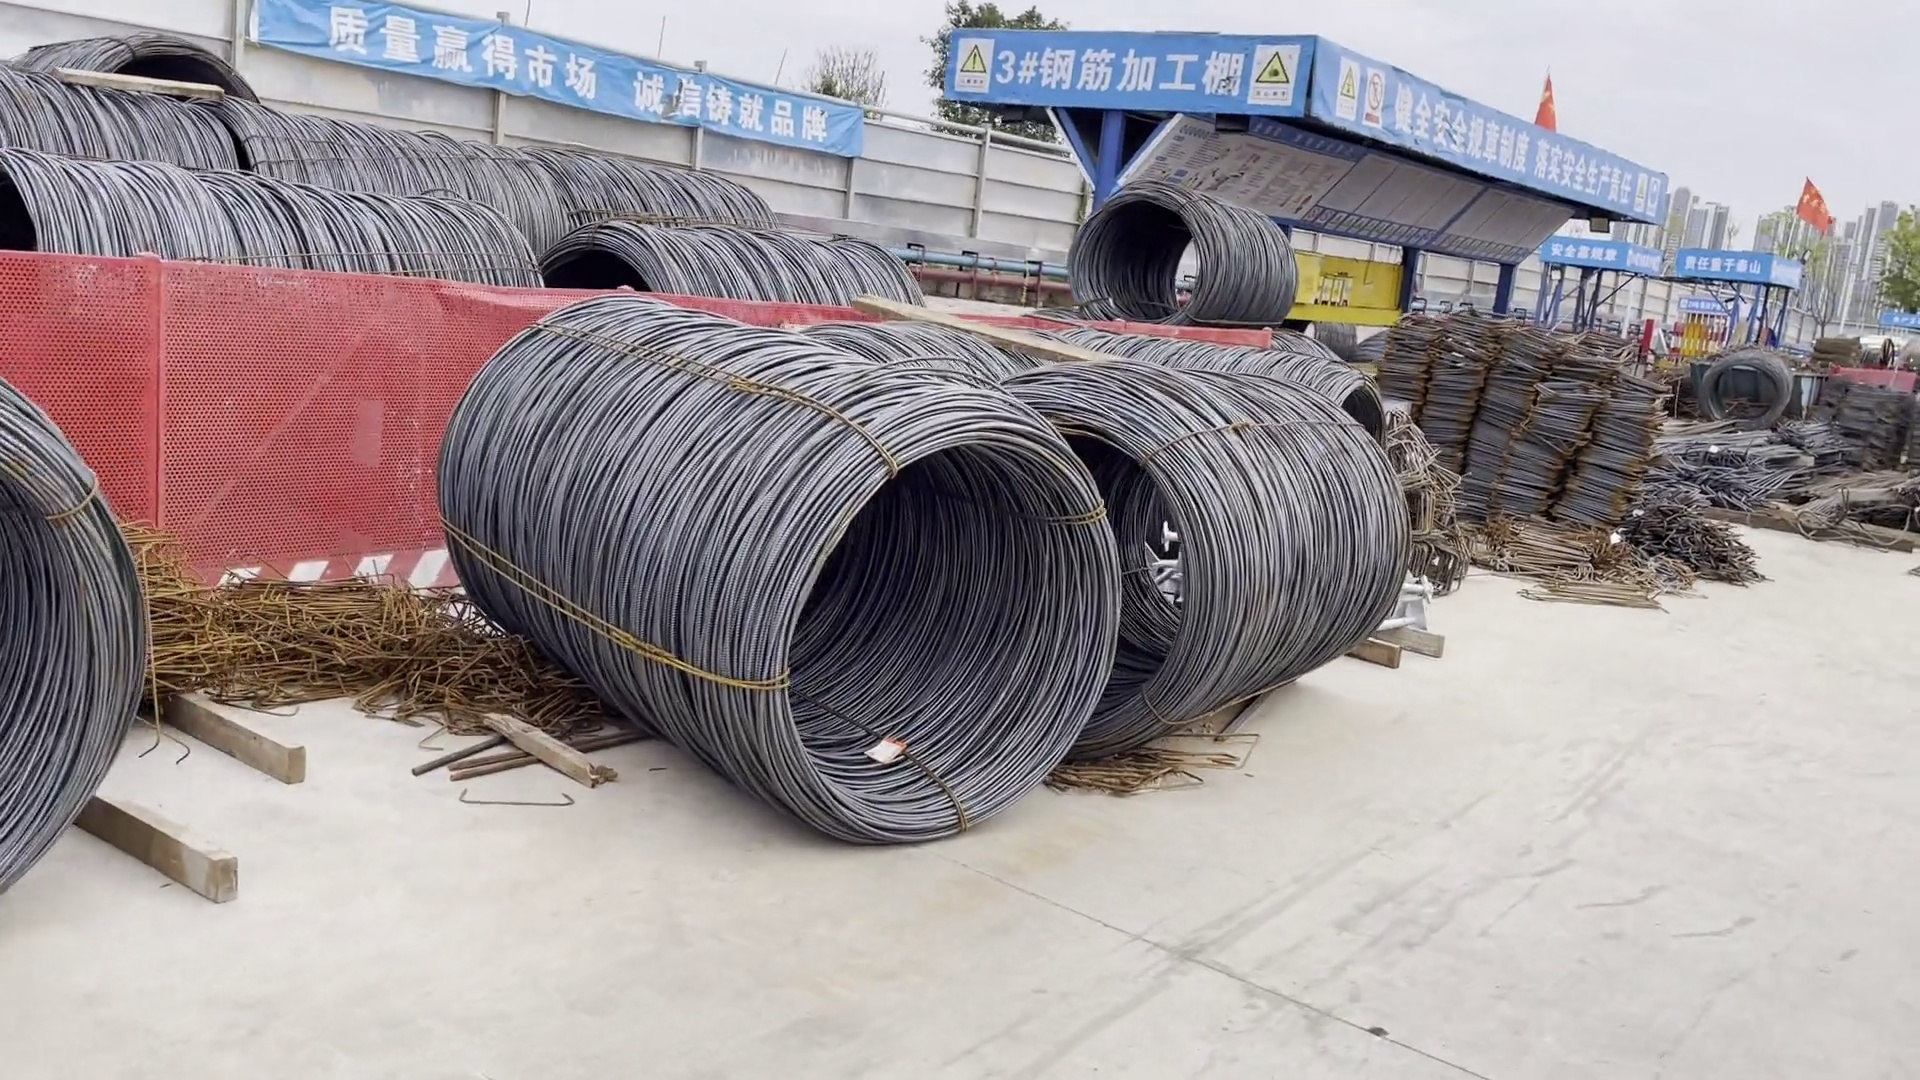ebox: (1286, 248, 1323, 309)
slogan: (313, 1, 836, 150)
